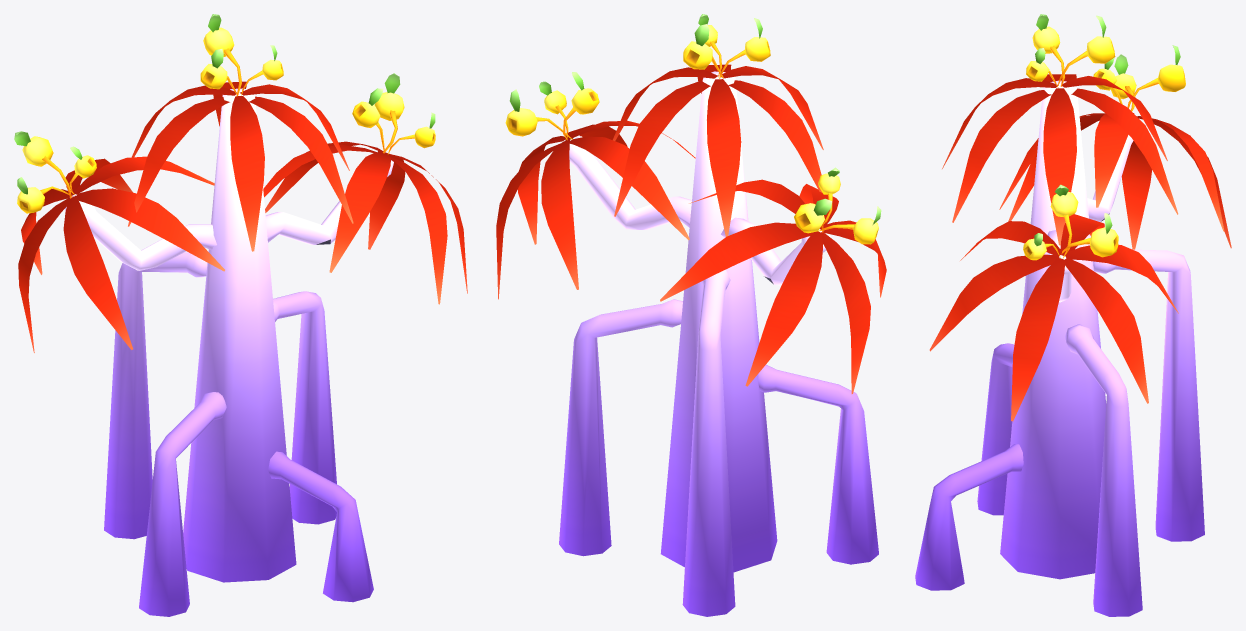
Rendered from judgement_berry.glb.
3 views of the same model, side by side, from view 1: azimuth 30°, elevation 25°; view 2: azimuth 150°, elevation 25°; view 3: azimuth 270°, elevation 25° (orthographic).
Visible parts, largest first — view 1: Judgement Berry; view 2: Judgement Berry; view 3: Judgement Berry.
Part boxes in pixels (box(x1,y1,x2,y2)): Judgement Berry: box(14, 14, 467, 616); Judgement Berry: box(496, 14, 886, 616); Judgement Berry: box(915, 14, 1231, 616).
Bounding box in the file's own units: 1.14 × 1.46 × 0.7813.
1 material, 1 textured.
